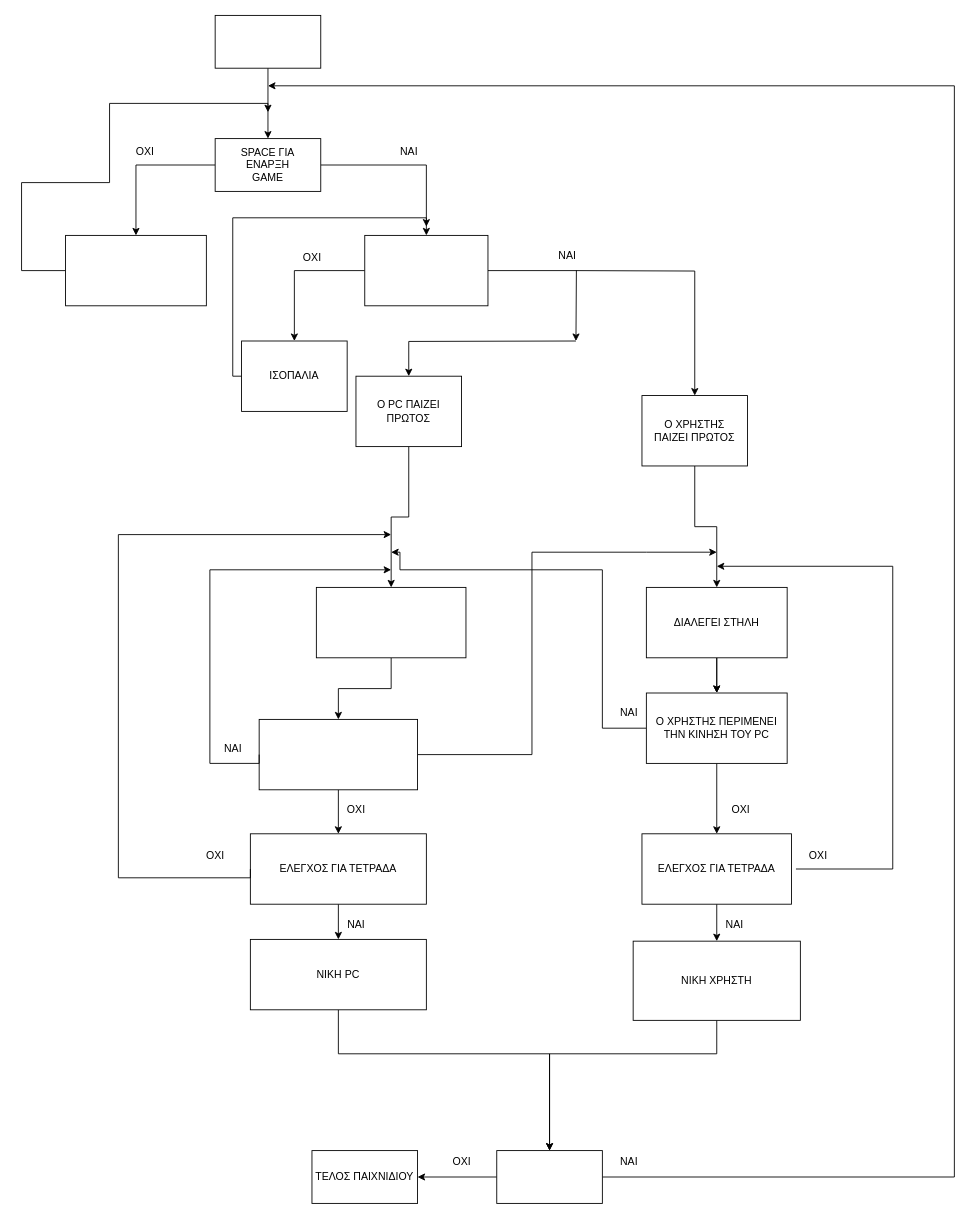
This 977x1219 diagram has some shape labels left out. Here are the shapes that lost their labels. From the top down, the box of each, then its label:
(214, 15, 321, 68): ΑΡΧΗ ΠΡΟΓΡΑΜΜΑΤΟΣ
(65, 235, 206, 306): ΠΕΡΙΜΕΝΕΙ ΜΕΧΡΙ ΝΑ ΠΑΤΗΘΕΙ ΤΟ SPACE(ΠΕΡΙΜΕΝΕΙ ΣΤΟ INTRO)
(364, 235, 488, 306): ROCK-PAPER-SCISSORS GAME (ΓΙΑ ΤΟ ΠΟΙΟΣ ΘΑ ΠΑΙΞΕΙ ΠΡΩΤΟΣ)
(315, 587, 466, 658): Ο PC ΔΙΑΛΕΓΕΙ ΜΕ ΒΑΣΗ BESTMOVE,MINMAX
(258, 719, 418, 790): Ο PC ΠΕΡΙΜΕΝΕΙ ΤΗΝ ΚΙΝΗΣΗ ΤΟΥ ΧΡΗΣΤΗ
(496, 1150, 602, 1203): ΕΠΑΝΑΦΟΡΑ ΠΑΙΧΝΙΔΙΟΥ
